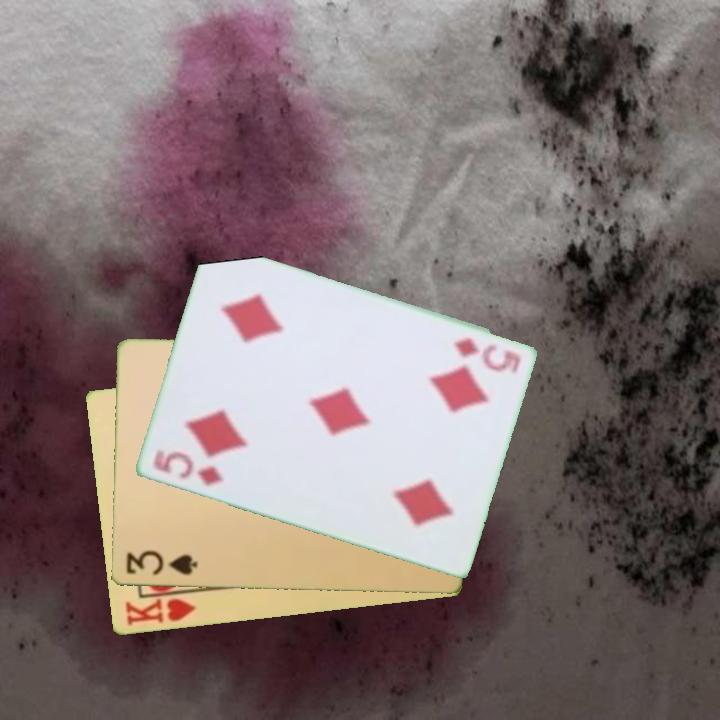3s: (123, 548, 200, 578)
5d: (148, 446, 226, 490), (449, 334, 524, 376)
Kh: (122, 588, 202, 629)
